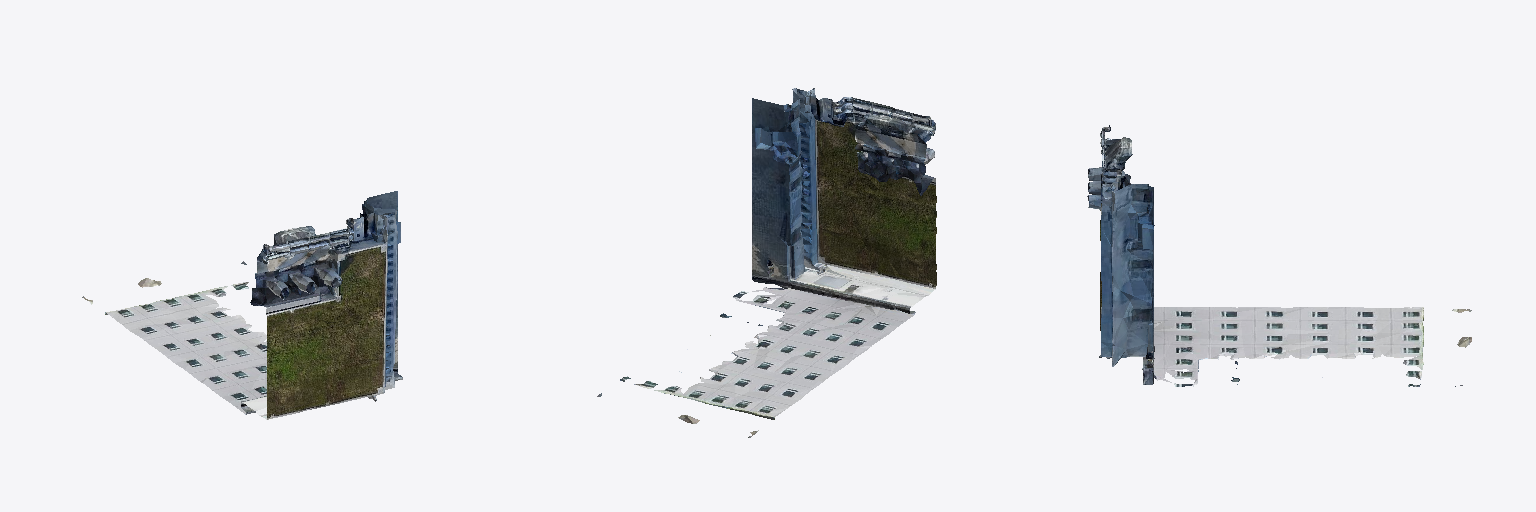
3 renders of one model, left to right at view 1: azimuth 30°, elevation 25°; view 2: azimuth 150°, elevation 25°; view 3: azimuth 270°, elevation 25°, orthographic.
Parts seen in each view (by area): view 1: obj_0; view 2: obj_0; view 3: obj_0.
Part boxes in pixels (left/top/right/bottom): obj_0: left=82, top=191, right=402, bottom=419; obj_0: left=597, top=88, right=936, bottom=437; obj_0: left=1087, top=125, right=1471, bottom=386.
Size of the model in its own units: 20.08 by 22.53 by 42.53.
1 materials, 1 textured.